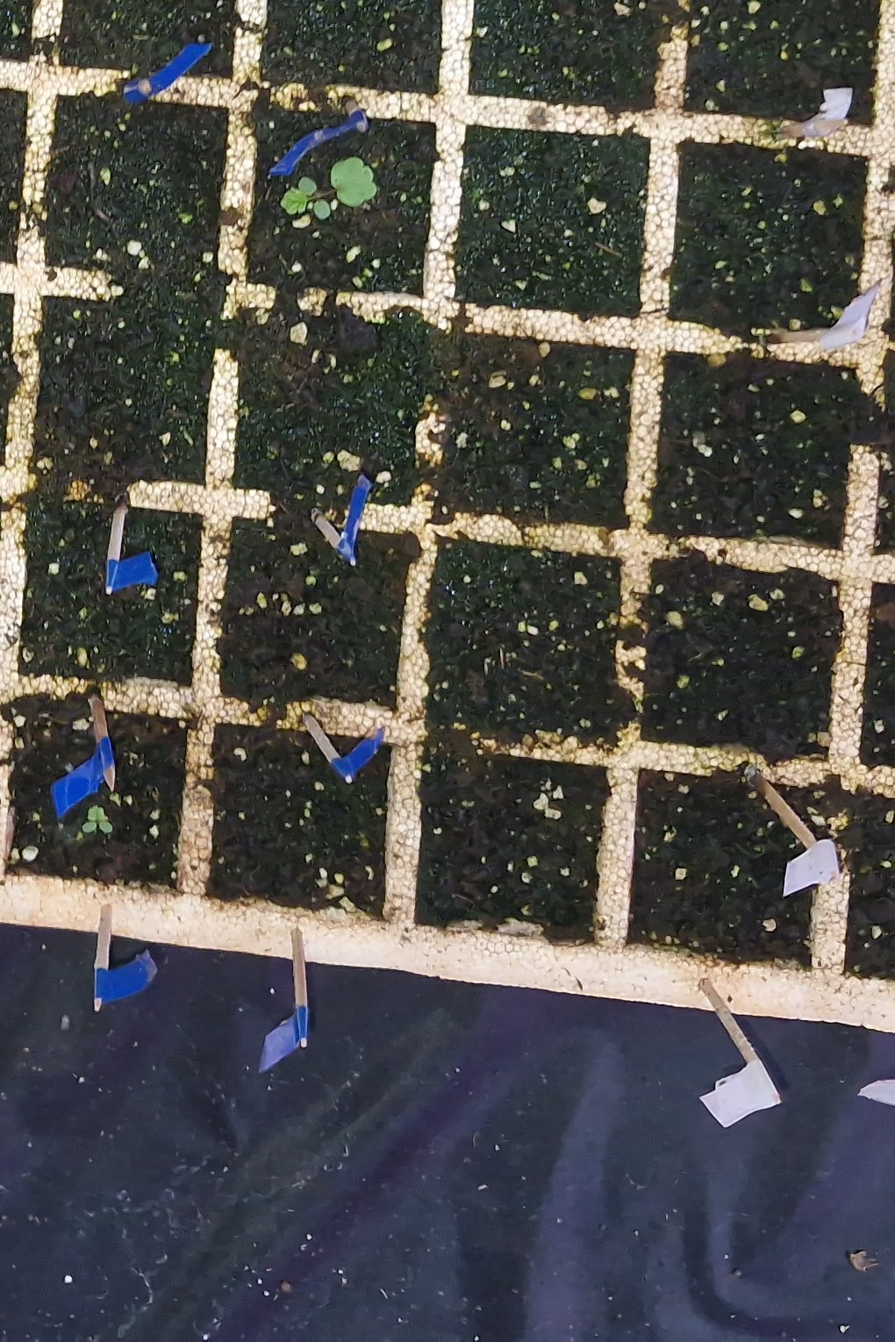Folha: (330, 156, 377, 207), (281, 187, 307, 214), (299, 176, 316, 195), (314, 200, 330, 219), (88, 805, 108, 820), (100, 821, 113, 832), (82, 823, 96, 832)
Germinacao: (279, 157, 377, 219), (82, 806, 114, 833)
